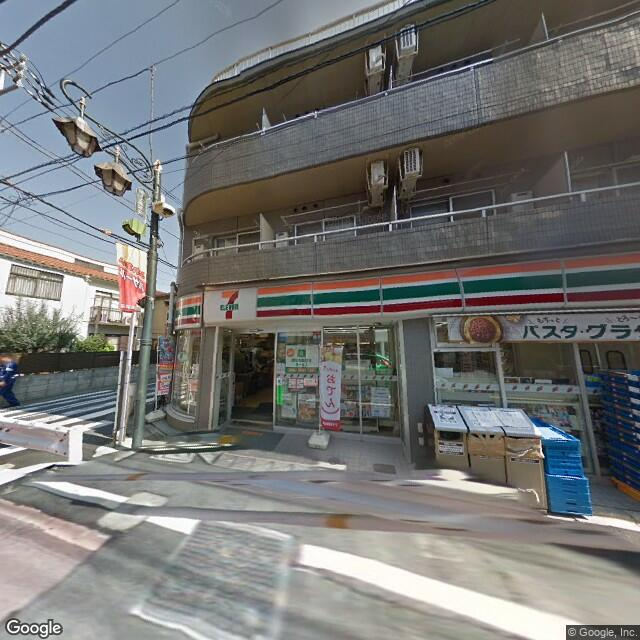7-eleven: (171, 248, 639, 330)
